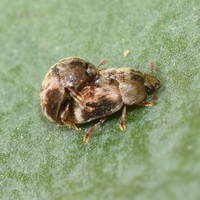insect: (40, 57, 159, 129)
